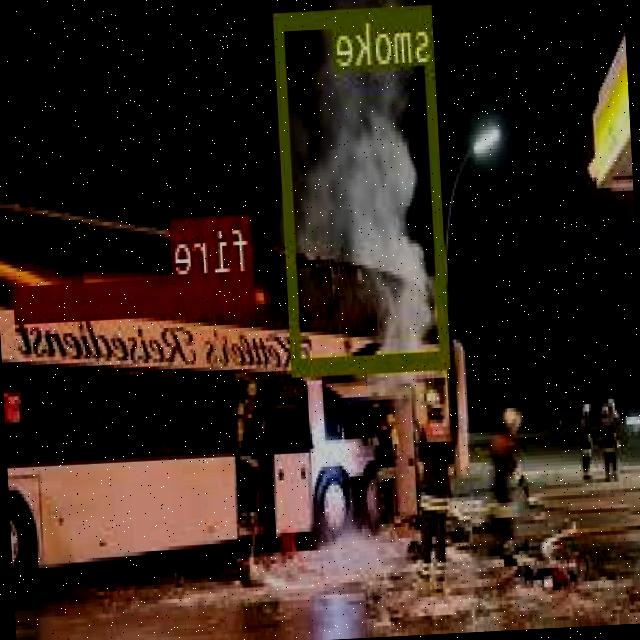fire: (16, 272, 258, 320)
smoke: (276, 1, 451, 374)
